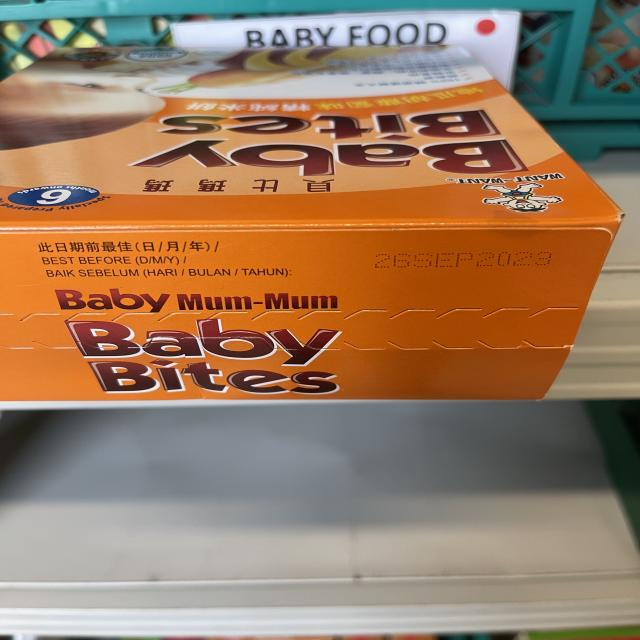object_name: (22, 57, 560, 399)
